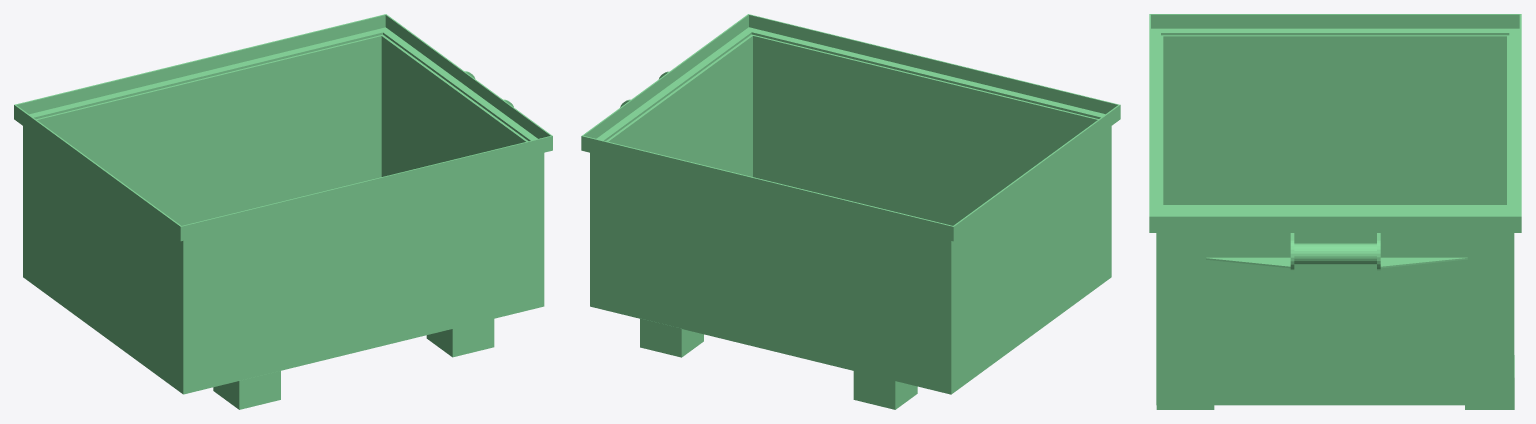
File: SchüttboxHalbhoch3D.dae
The picture shows the model from 3 angles, left to right: view 1: azimuth 30°, elevation 25°; view 2: azimuth 150°, elevation 25°; view 3: azimuth 270°, elevation 25°; orthographic projection. The views are drawn at different scales.
Visible parts, largest first — view 1: node0; view 2: node0; view 3: node0.
Part boxes in pixels (x1=…): node0: x1=14, y1=14, x2=552, y2=409; node0: x1=581, y1=14, x2=1120, y2=409; node0: x1=1149, y1=14, x2=1521, y2=409.
Size of the model in its own units: 1.43 by 1.04 by 0.6897.
